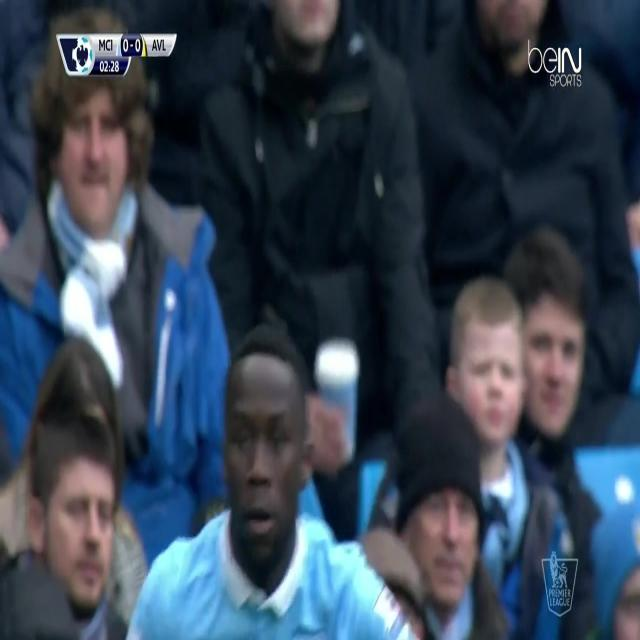Player: (125, 332, 424, 640)
